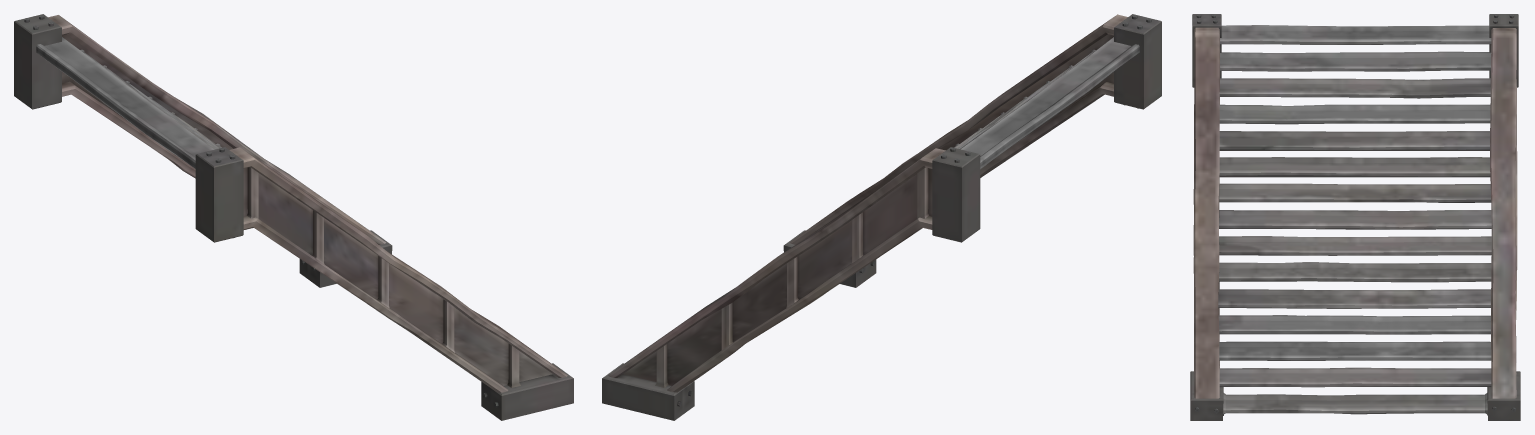
File: SM_Stair_Iron_7fe63f.glb
The picture shows the model from 3 angles, left to right: view 1: azimuth 30°, elevation 25°; view 2: azimuth 150°, elevation 25°; view 3: azimuth 270°, elevation 25°; orthographic projection. The views are drawn at different scales.
Bounding box in the file's own units: 4.18 × 3.6 × 4.05.
Materials: 1 (1 with a texture image).
